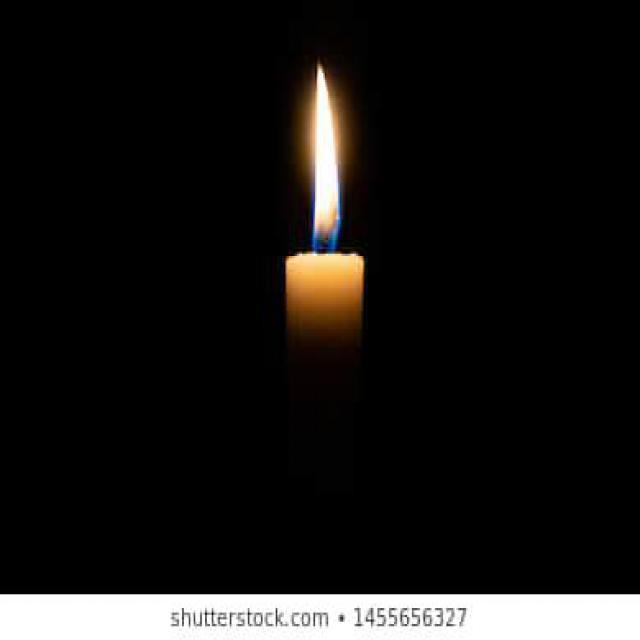Fire: (314, 65, 342, 255)
